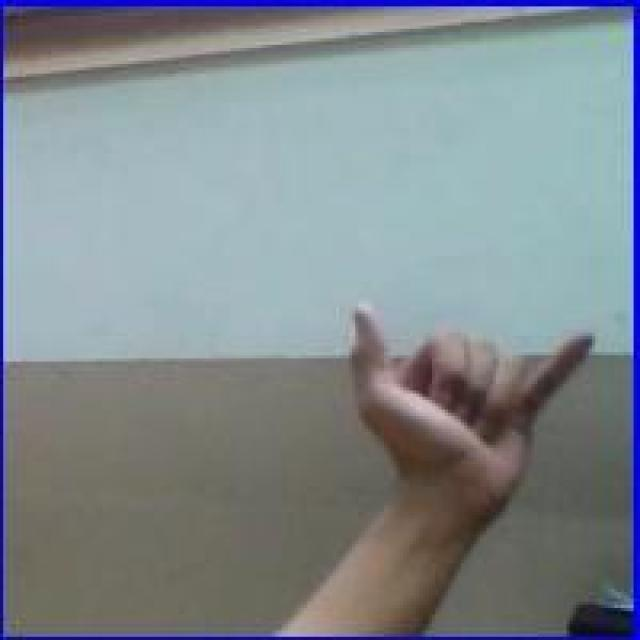Y: (344, 299, 594, 520)
